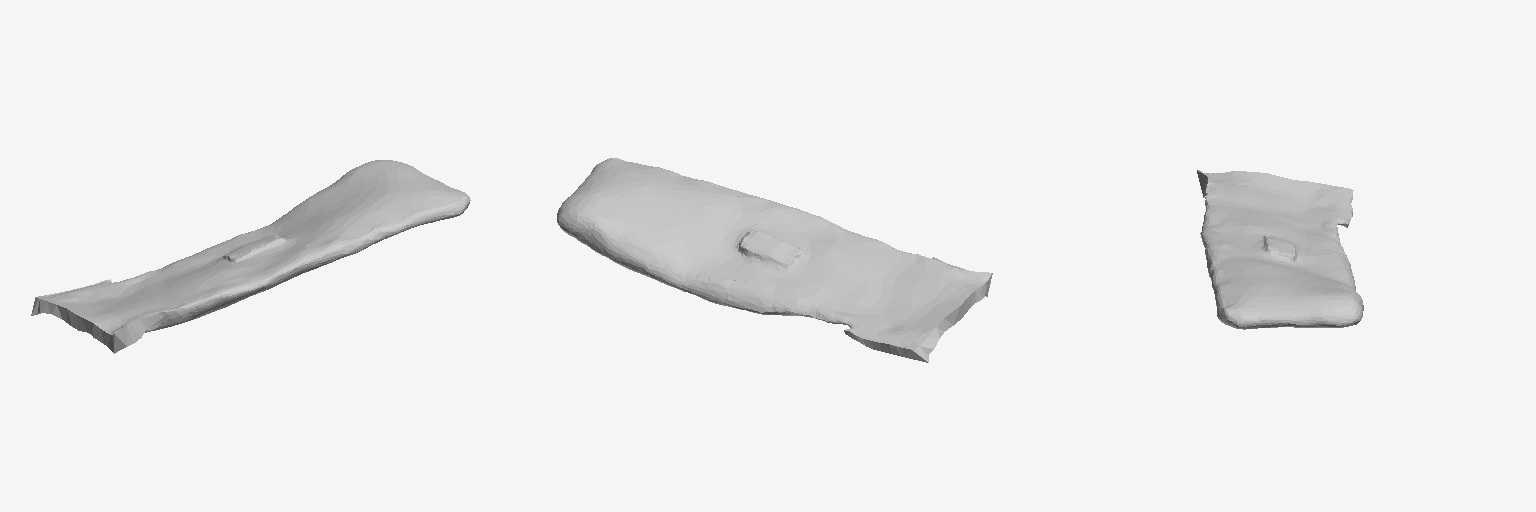
Rendered from stansmith_scan_toebox.obj.
3 views of the same model, side by side, from view 1: azimuth 30°, elevation 25°; view 2: azimuth 150°, elevation 25°; view 3: azimuth 270°, elevation 25° (orthographic).
Visible parts, largest first — view 1: smoothed-mesh_with_holes_symplified_twice; view 2: smoothed-mesh_with_holes_symplified_twice; view 3: smoothed-mesh_with_holes_symplified_twice.
Boxes of the visible parts, x1=… form: smoothed-mesh_with_holes_symplified_twice: x1=31, y1=160, x2=470, y2=353; smoothed-mesh_with_holes_symplified_twice: x1=557, y1=158, x2=992, y2=362; smoothed-mesh_with_holes_symplified_twice: x1=1197, y1=170, x2=1363, y2=329.
Size of the model in its own units: 1.59 by 0.2893 by 0.5975.